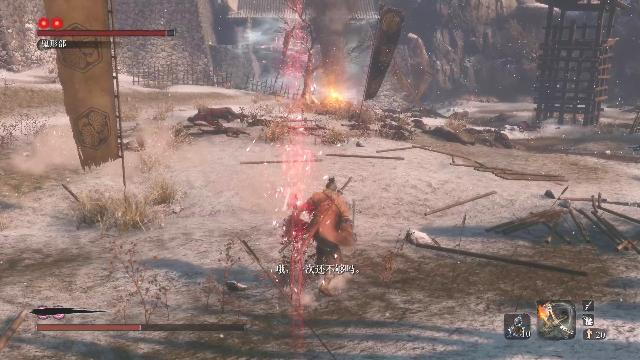sk: (278, 175, 359, 300)
